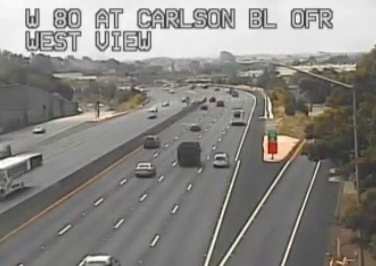bus: (230, 107, 245, 125)
car: (135, 162, 155, 177), (212, 153, 228, 168), (143, 135, 160, 149)
small-truck: (177, 142, 200, 166)
